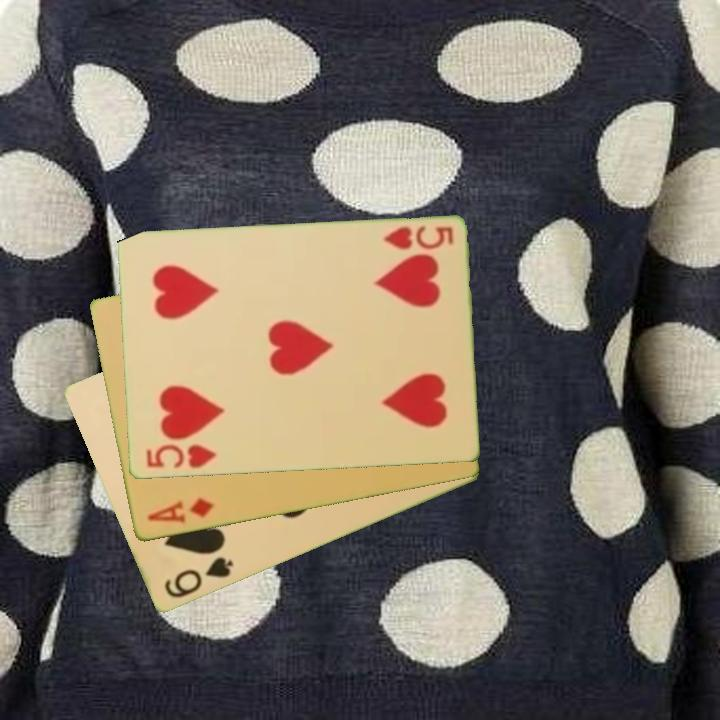5h: (142, 441, 219, 471), (379, 223, 456, 253)
6s: (160, 553, 236, 602)
Ad: (143, 494, 217, 527)
